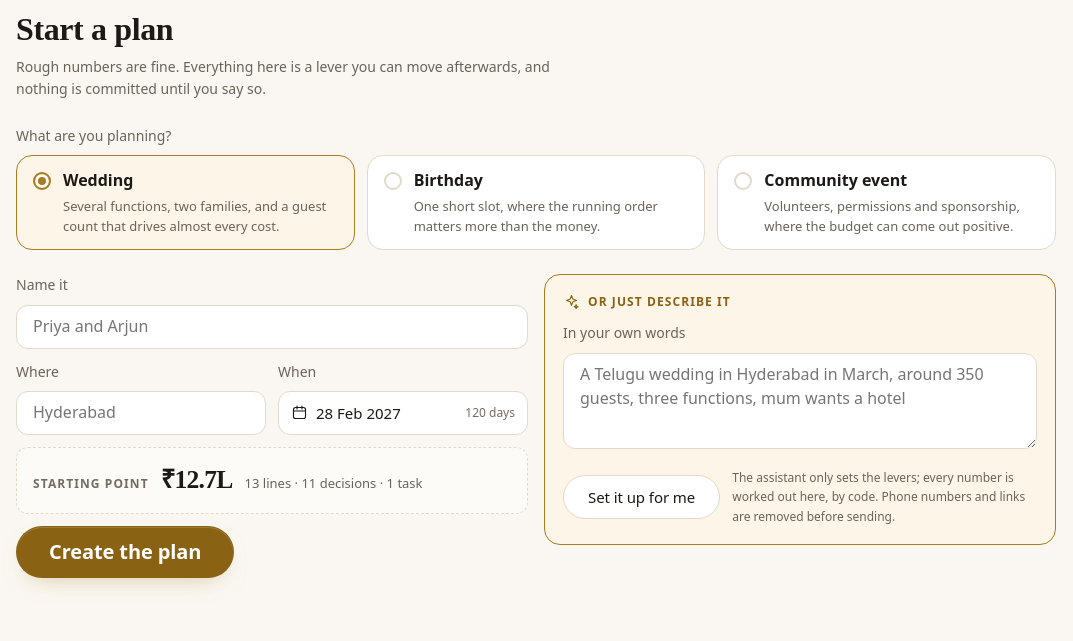
NewPlanPage › reports a failure and leaves the form alone
In the text box labelled "In your own words": [800, 401] box 563,353 -> 1037,449, type "A wedding"
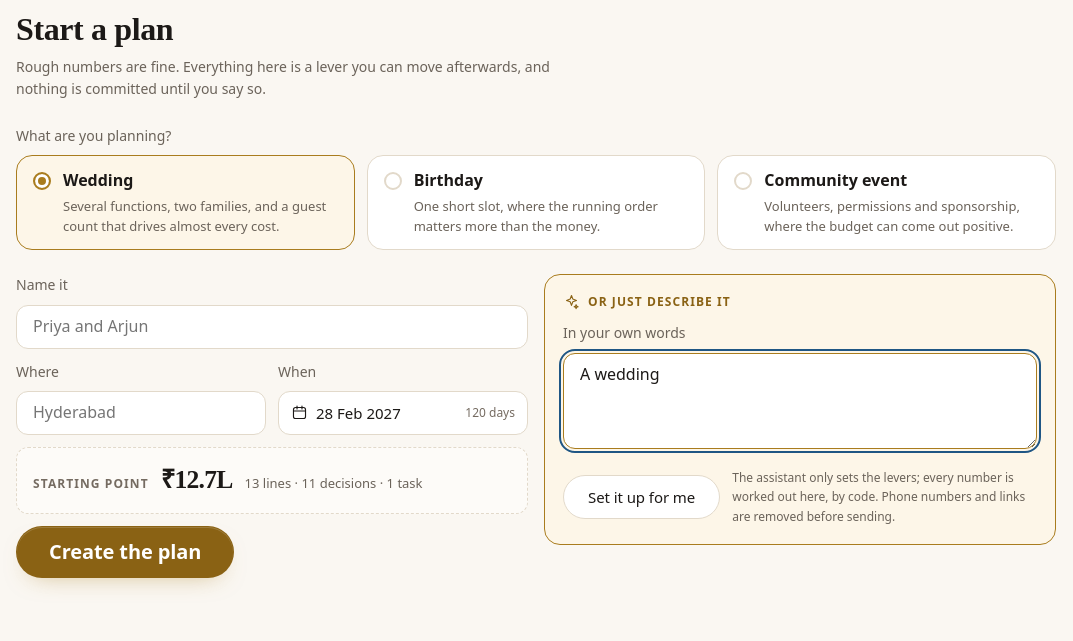
Click the button "Set it up for me": [642, 497] box 563,475 -> 720,519
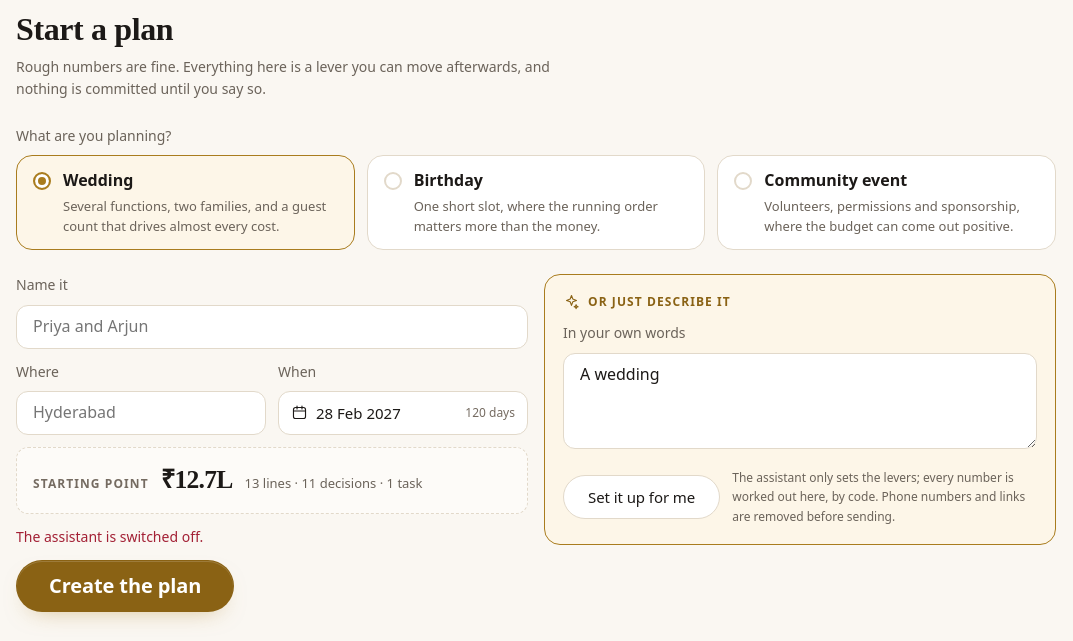
expect the text "The assistant is switched off." is shown: met, box 16,527 -> 203,546
